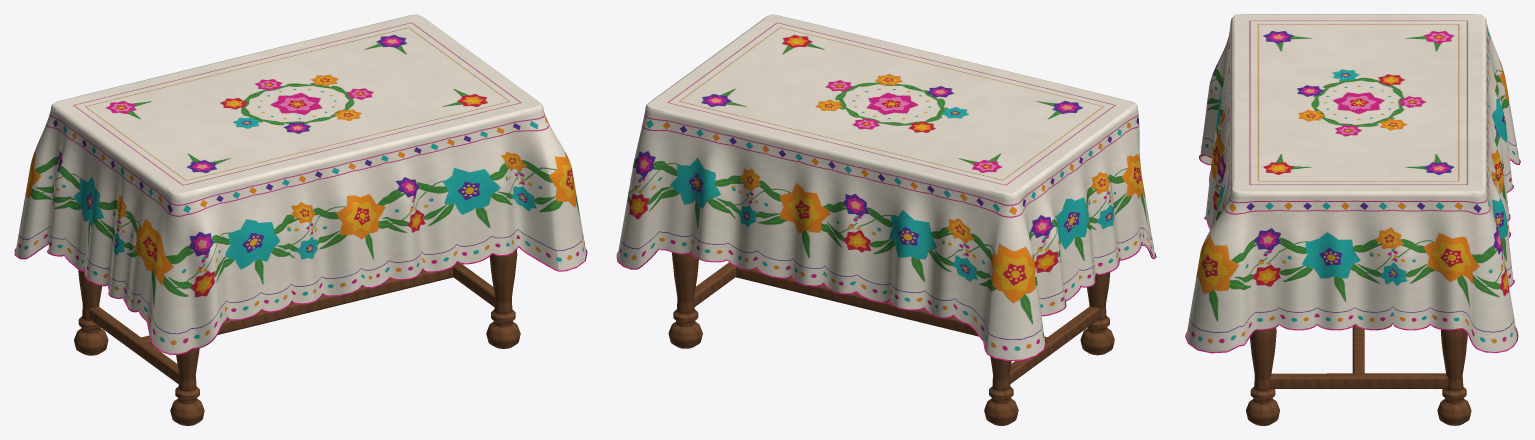
File: w3_court_table.glb
3 renders of one model, left to right at view 1: azimuth 30°, elevation 25°; view 2: azimuth 150°, elevation 25°; view 3: azimuth 270°, elevation 25°, orthographic.
Visible parts, largest first — view 1: w3_court_table; view 2: w3_court_table; view 3: w3_court_table.
Part boxes in pixels (x1=…): w3_court_table: x1=14, y1=14, x2=587, y2=425; w3_court_table: x1=616, y1=14, x2=1156, y2=425; w3_court_table: x1=1185, y1=14, x2=1520, y2=425.
Size of the model in its own units: 1.46 by 0.7823 by 0.982.
4 materials, 4 textured.
